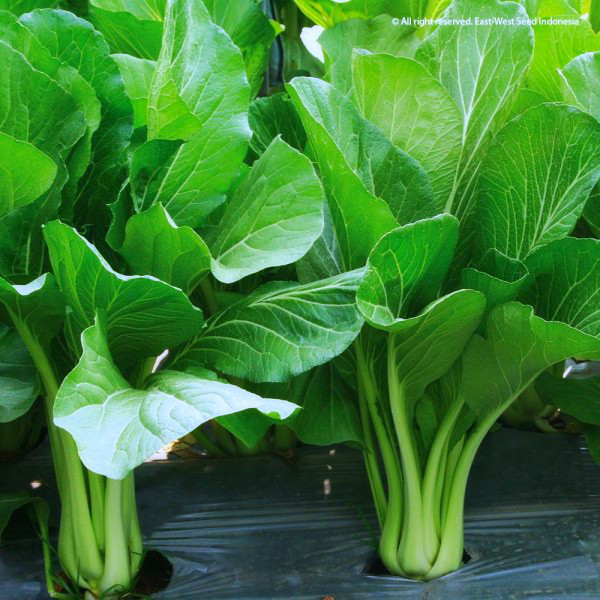Sawi: (65, 41, 596, 600)
